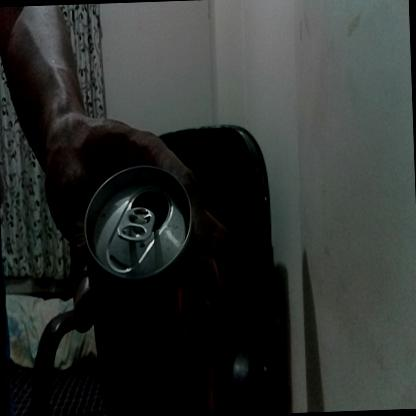alumunium_can: (84, 164, 203, 416)
